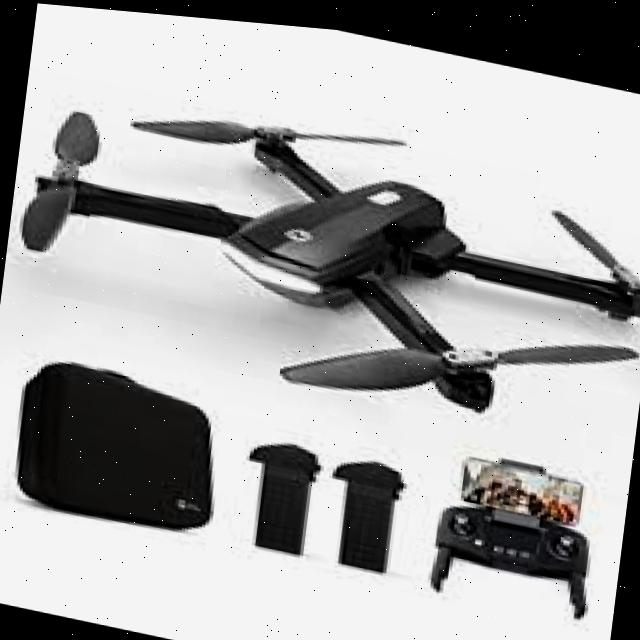drone: (0, 39, 640, 452)
